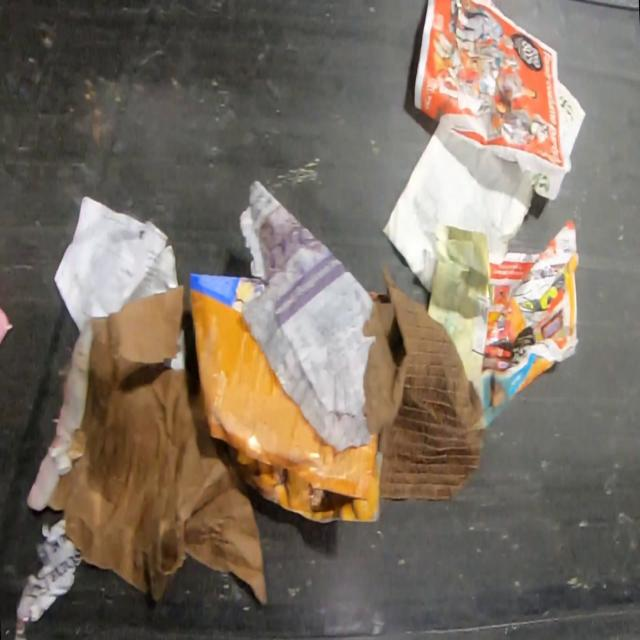cardboard: (188, 270, 382, 524), (362, 262, 489, 500)
